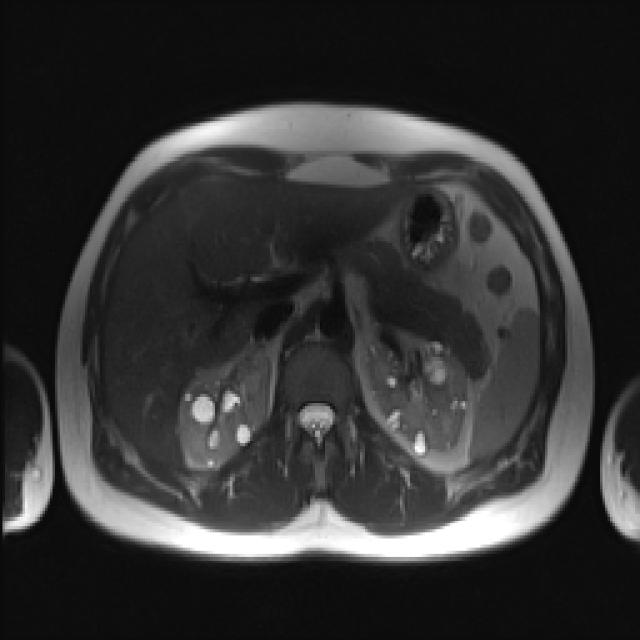sag: (177, 344, 271, 467)
sol: (364, 322, 469, 455)
